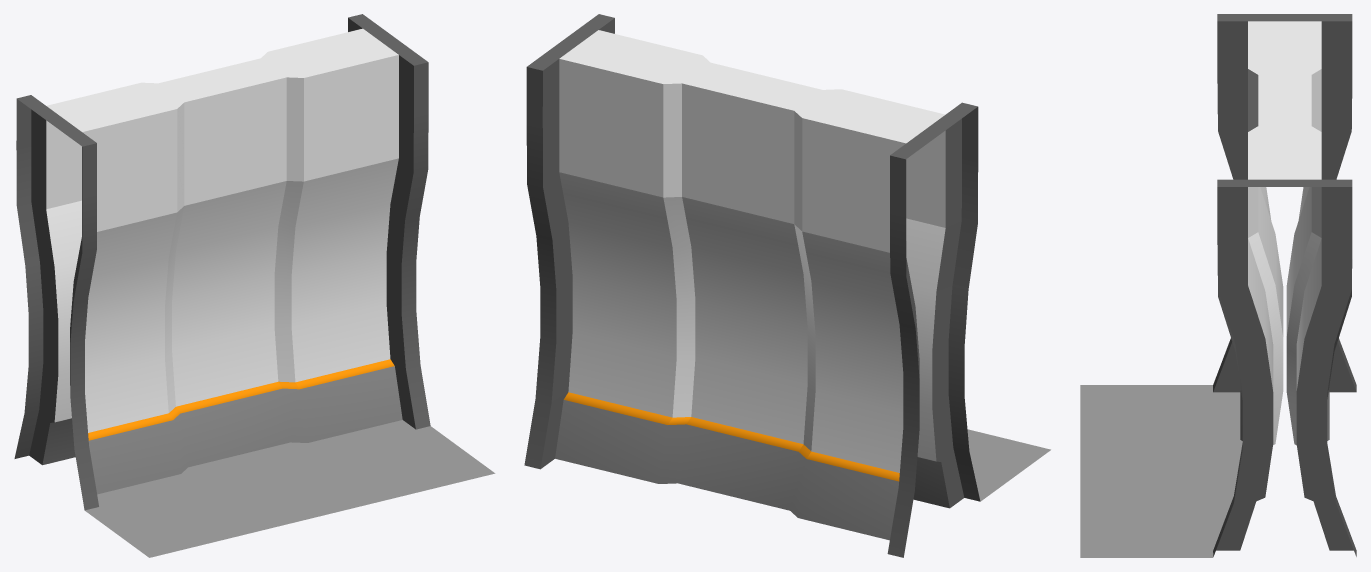
Rendered from SM_ExteriorWall_02.fbx.
The picture shows the model from 3 angles, left to right: view 1: azimuth 30°, elevation 25°; view 2: azimuth 150°, elevation 25°; view 3: azimuth 270°, elevation 25°; orthographic projection. The views are drawn at different scales.
Parts seen in each view (by area): view 1: SM_ExteriorWall_02; view 2: SM_ExteriorWall_02; view 3: SM_ExteriorWall_02.
Boxes of the visible parts, x1,y1,x2,y2 form: SM_ExteriorWall_02: (14,14,495,557); SM_ExteriorWall_02: (524,14,1050,557); SM_ExteriorWall_02: (1080,14,1356,557).
Size of the model in its own units: 200 by 200 by 135.
1 material, 1 textured.
